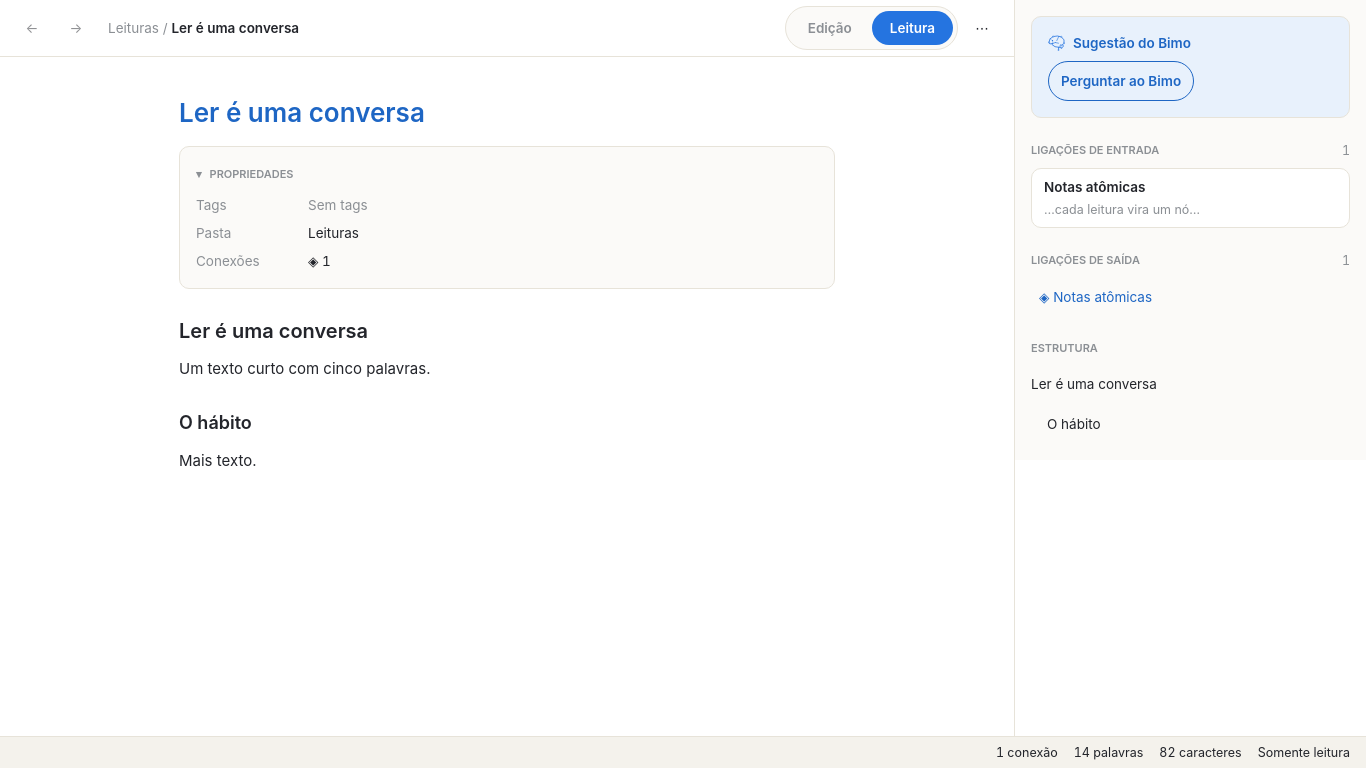
Test: AbaDeNota › copiar a ligação avisa que copiou, e avisa quando não consegue
Click the button named "Mais opções" at (982, 28), box left=962, top=8, right=1002, bottom=48
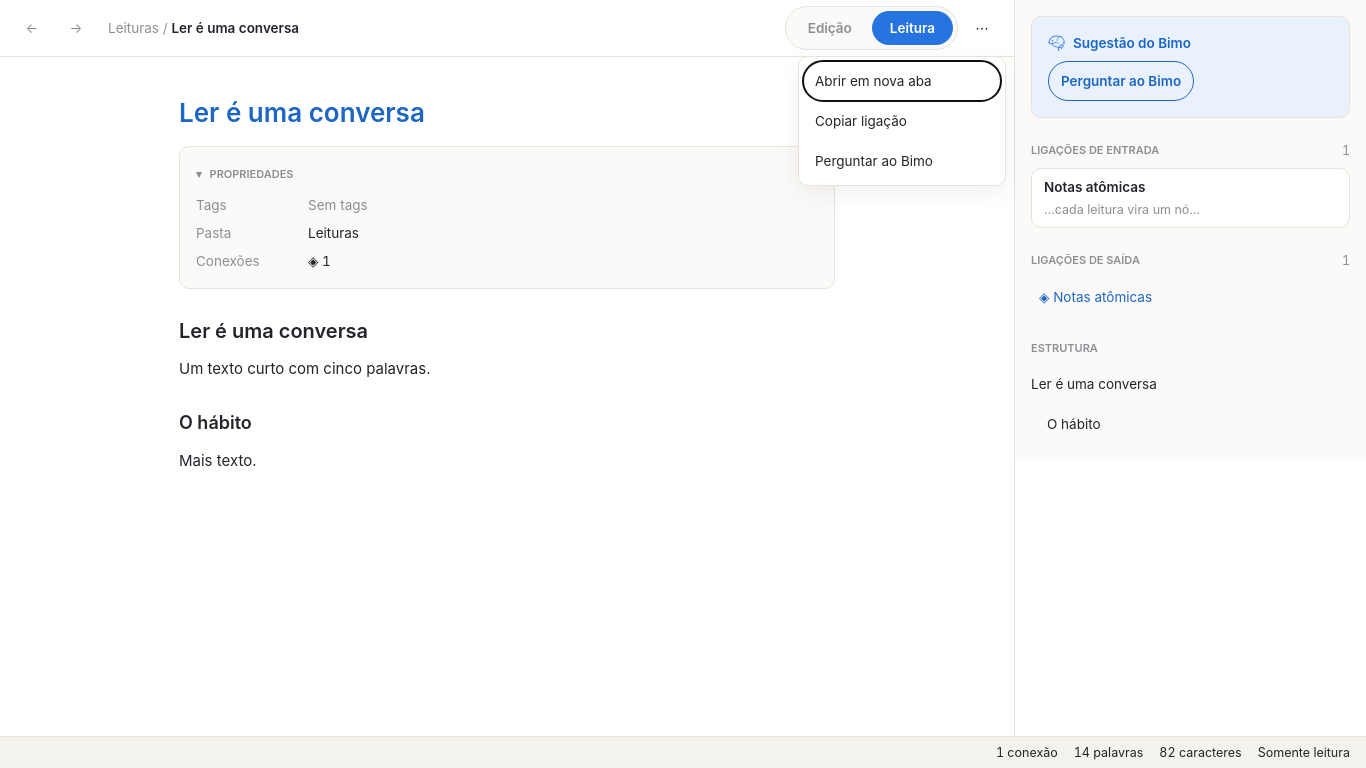
Click the menu item "Copiar ligação" at (902, 121), box left=803, top=101, right=1001, bottom=141
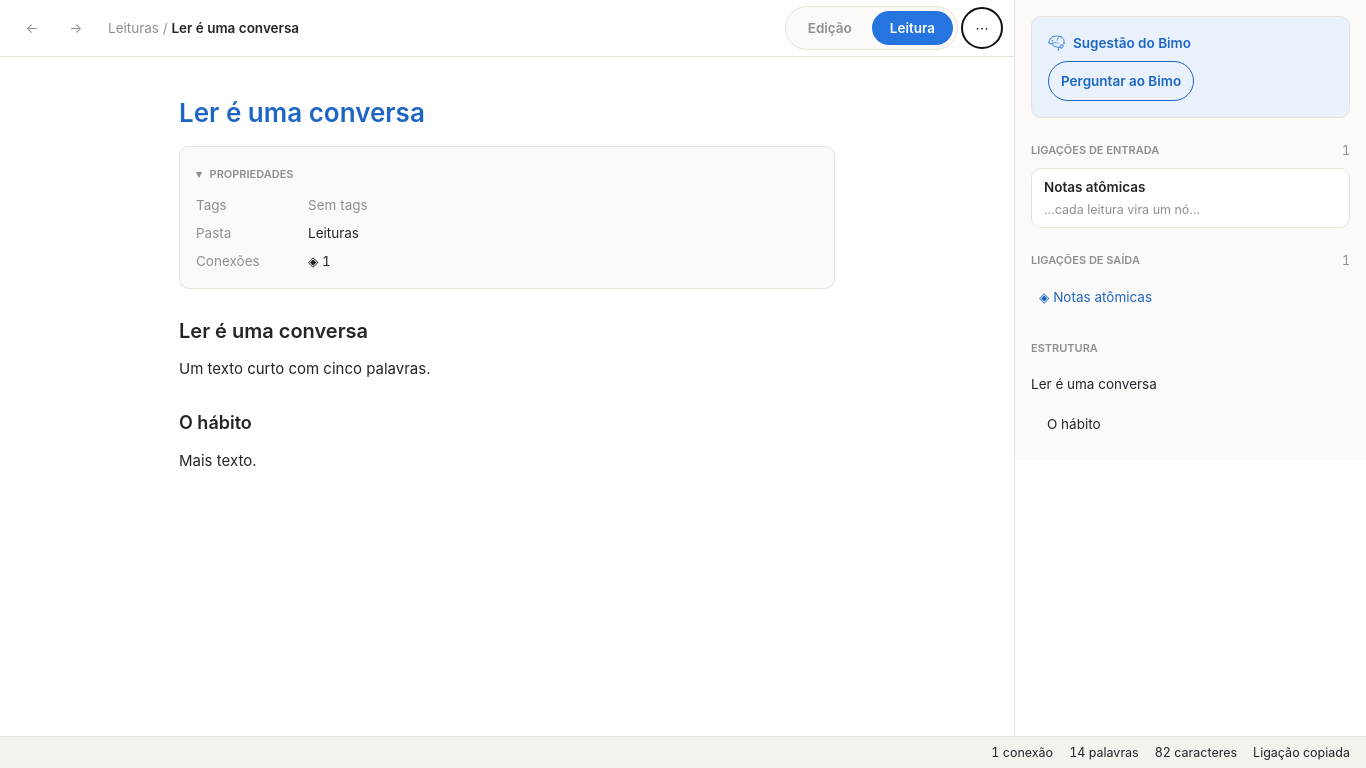
Check: the text "Ligação copiada" is shown, box left=1253, top=744, right=1350, bottom=761
Click the button named "Mais opções" at (982, 28), box left=962, top=8, right=1002, bottom=48
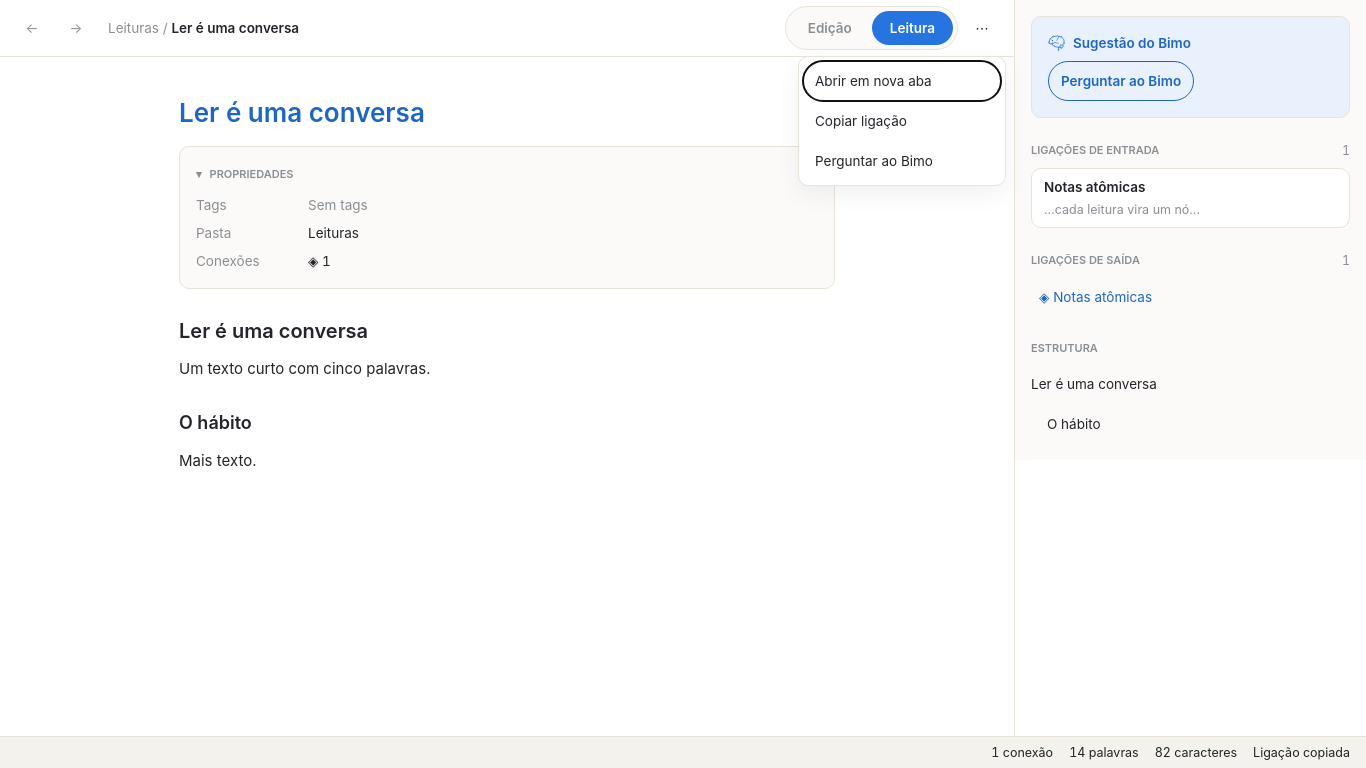
Click the menu item "Copiar ligação" at (902, 121), box left=803, top=101, right=1001, bottom=141
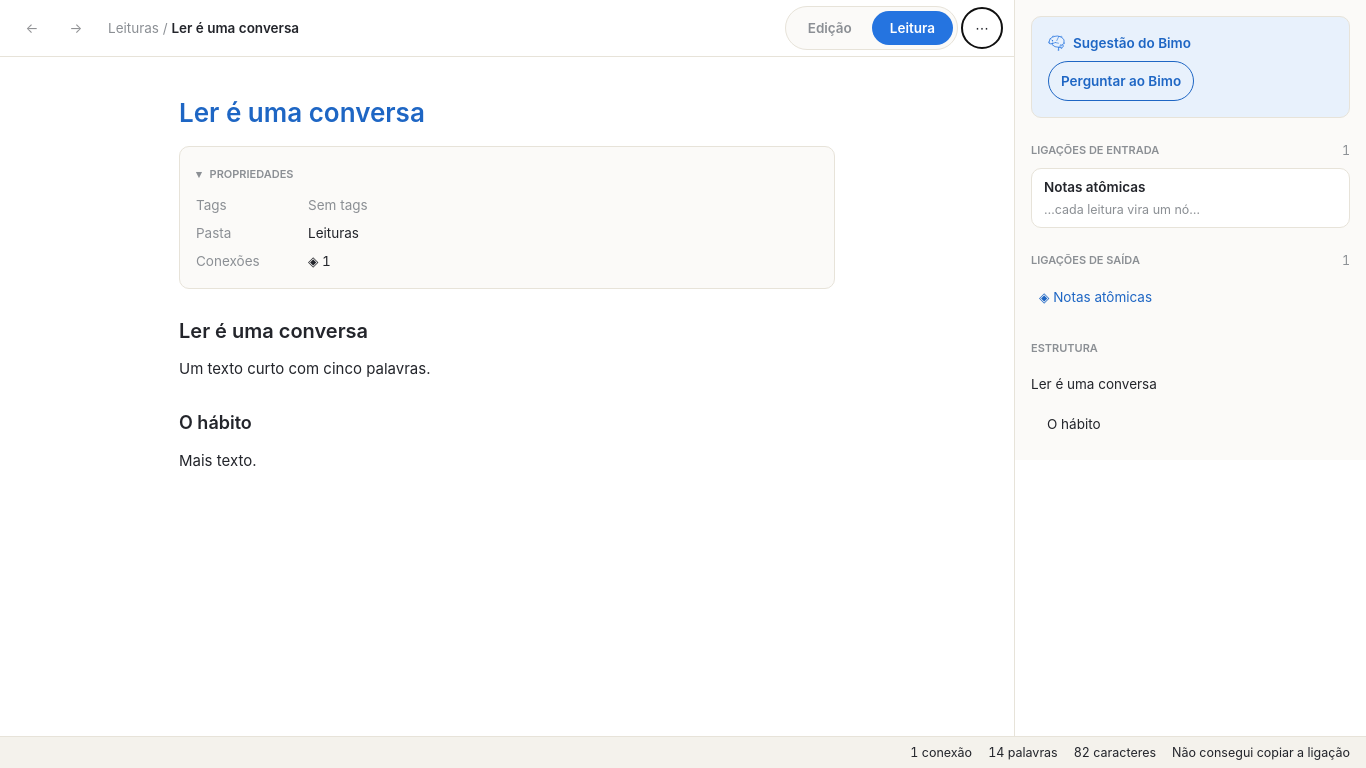
Check: the text "Não consegui copiar a ligação" is shown, box left=1172, top=744, right=1350, bottom=761
